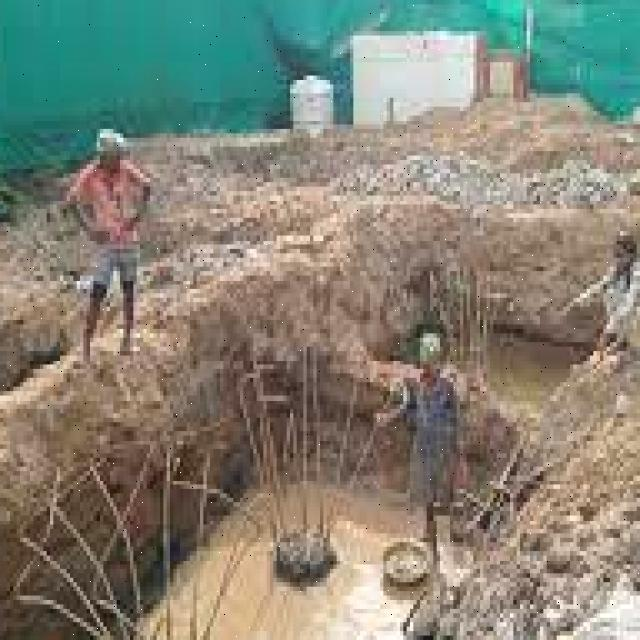Foundation: (258, 216, 616, 560), (23, 346, 419, 640)
